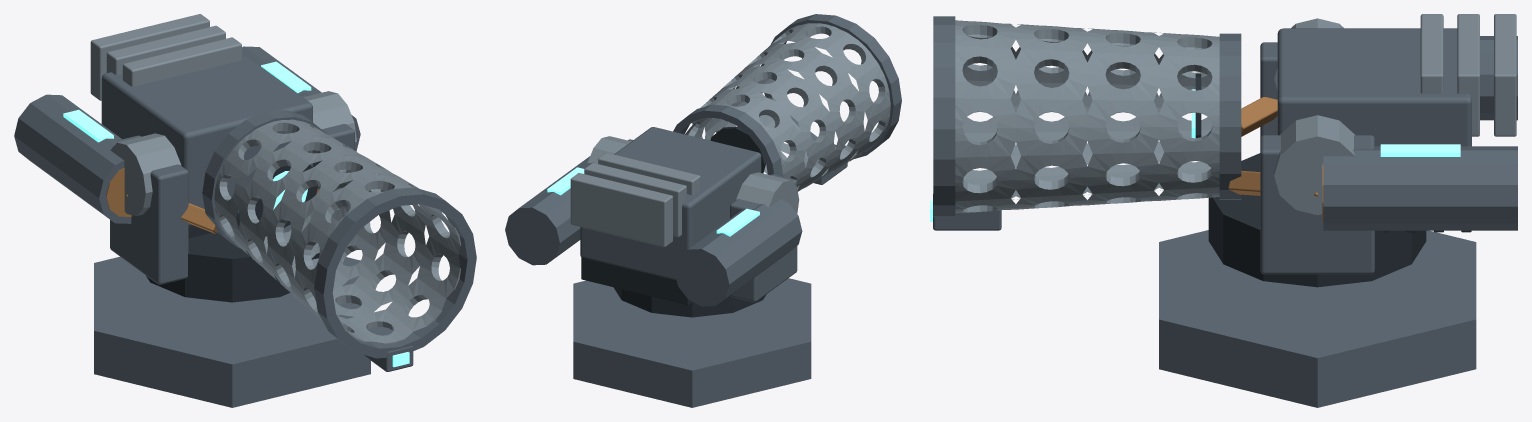
Rendered from plasma_t2_d0.glb.
3 renders of one model, left to right at view 1: azimuth 30°, elevation 25°; view 2: azimuth 150°, elevation 25°; view 3: azimuth 270°, elevation 25°, orthographic. The views are drawn at different scales.
Parts seen in each view (by area): view 1: RECOIL_ARMOR_GEOMETRY, BASE_ARMOR_GEOMETRY, YAW_ARMOR_GEOMETRY, RECOIL_SIGNAL_GEOMETRY; view 2: RECOIL_ARMOR_GEOMETRY, BASE_ARMOR_GEOMETRY, YAW_ARMOR_GEOMETRY, RECOIL_SIGNAL_GEOMETRY; view 3: RECOIL_ARMOR_GEOMETRY, BASE_ARMOR_GEOMETRY, YAW_ARMOR_GEOMETRY, RECOIL_SIGNAL_GEOMETRY.
Boxes of the visible parts, box(x1,y1,x2,y2) form: RECOIL_ARMOR_GEOMETRY: box(14, 14, 476, 371); BASE_ARMOR_GEOMETRY: box(94, 256, 370, 407); YAW_ARMOR_GEOMETRY: box(110, 95, 354, 302); RECOIL_SIGNAL_GEOMETRY: box(63, 61, 409, 367); RECOIL_ARMOR_GEOMETRY: box(505, 14, 901, 306); BASE_ARMOR_GEOMETRY: box(573, 278, 811, 407); YAW_ARMOR_GEOMETRY: box(613, 139, 797, 317); RECOIL_SIGNAL_GEOMETRY: box(547, 167, 759, 236); RECOIL_ARMOR_GEOMETRY: box(933, 14, 1517, 232); BASE_ARMOR_GEOMETRY: box(1159, 230, 1476, 407); YAW_ARMOR_GEOMETRY: box(1208, 42, 1426, 287); RECOIL_SIGNAL_GEOMETRY: box(930, 89, 1460, 221).
Size of the model in its own units: 1.6 by 1.47 by 2.57.
